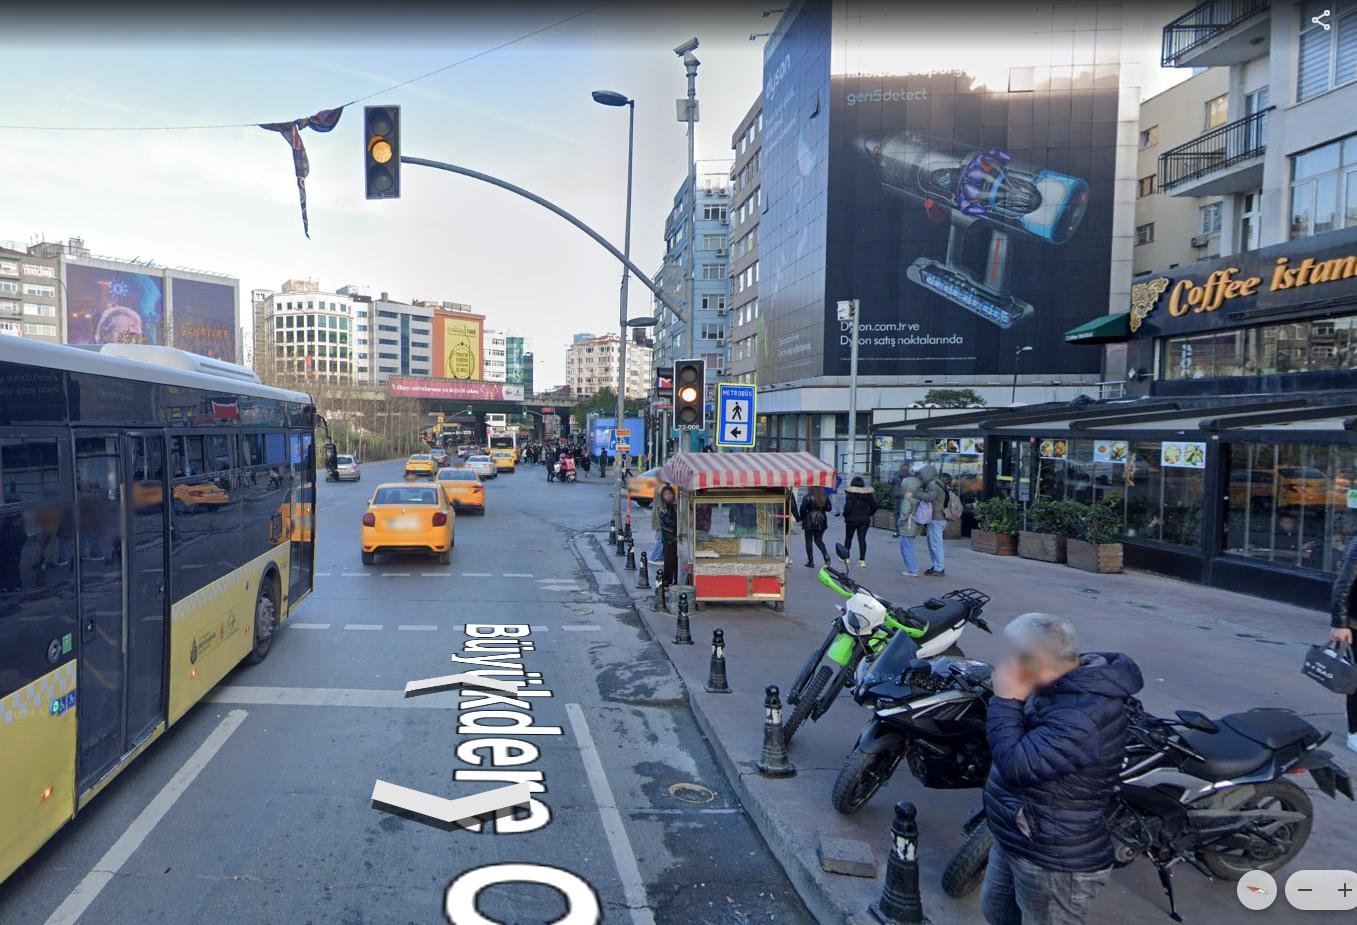greenlight: (467, 406, 472, 416), (523, 405, 527, 417)
yellowlight: (363, 106, 400, 194), (676, 360, 702, 428)
